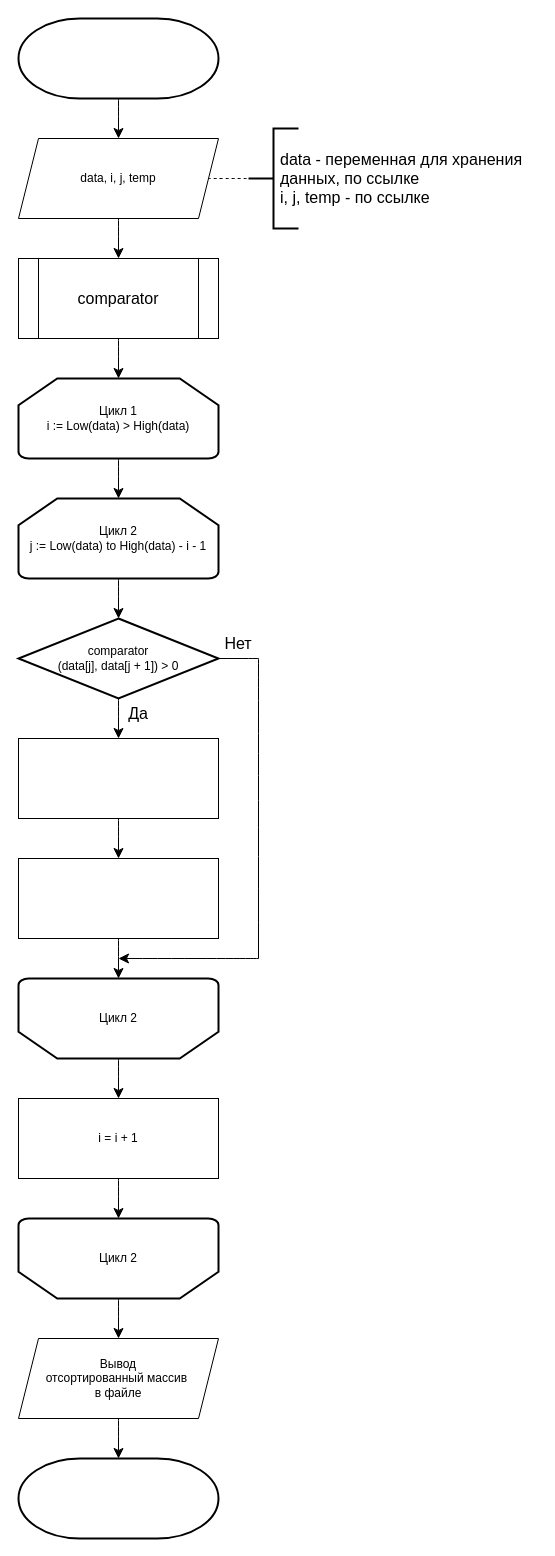
Some shapes in this 555 by 1556 pixel diagram are drawn without their labels. Each missing label, with the centre of its shape:
"BubbleSort Конец" goes at point (118, 1498).
"BubbleSort Начало" goes at point (118, 58).
"j = j + 1" goes at point (118, 898).
"temp := data[j] data[j] := data[j + 1] data[j + 1] := temp" goes at point (118, 778).
